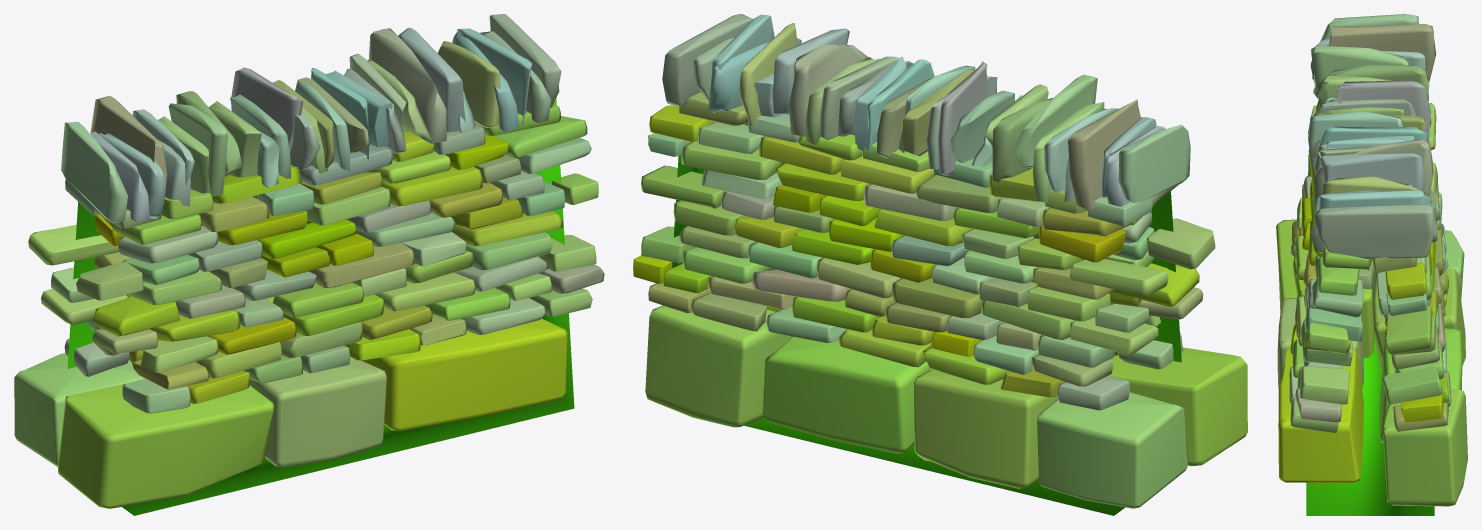
The model's file is SM_Prop_wall_stone_5.glb.
The picture shows the model from 3 angles, left to right: view 1: azimuth 30°, elevation 25°; view 2: azimuth 150°, elevation 25°; view 3: azimuth 270°, elevation 25°; orthographic projection. The views are drawn at different scales.
Visible parts, largest first — view 1: SM_Prop_wall_stone_5; view 2: SM_Prop_wall_stone_5; view 3: SM_Prop_wall_stone_5.
Part boxes in pixels (left/top/right/bottom): SM_Prop_wall_stone_5: left=14, top=14, right=604, bottom=515; SM_Prop_wall_stone_5: left=633, top=14, right=1247, bottom=515; SM_Prop_wall_stone_5: left=1276, top=14, right=1467, bottom=515.
Bounding box in the file's own units: 2.3 × 1.55 × 0.8386.
